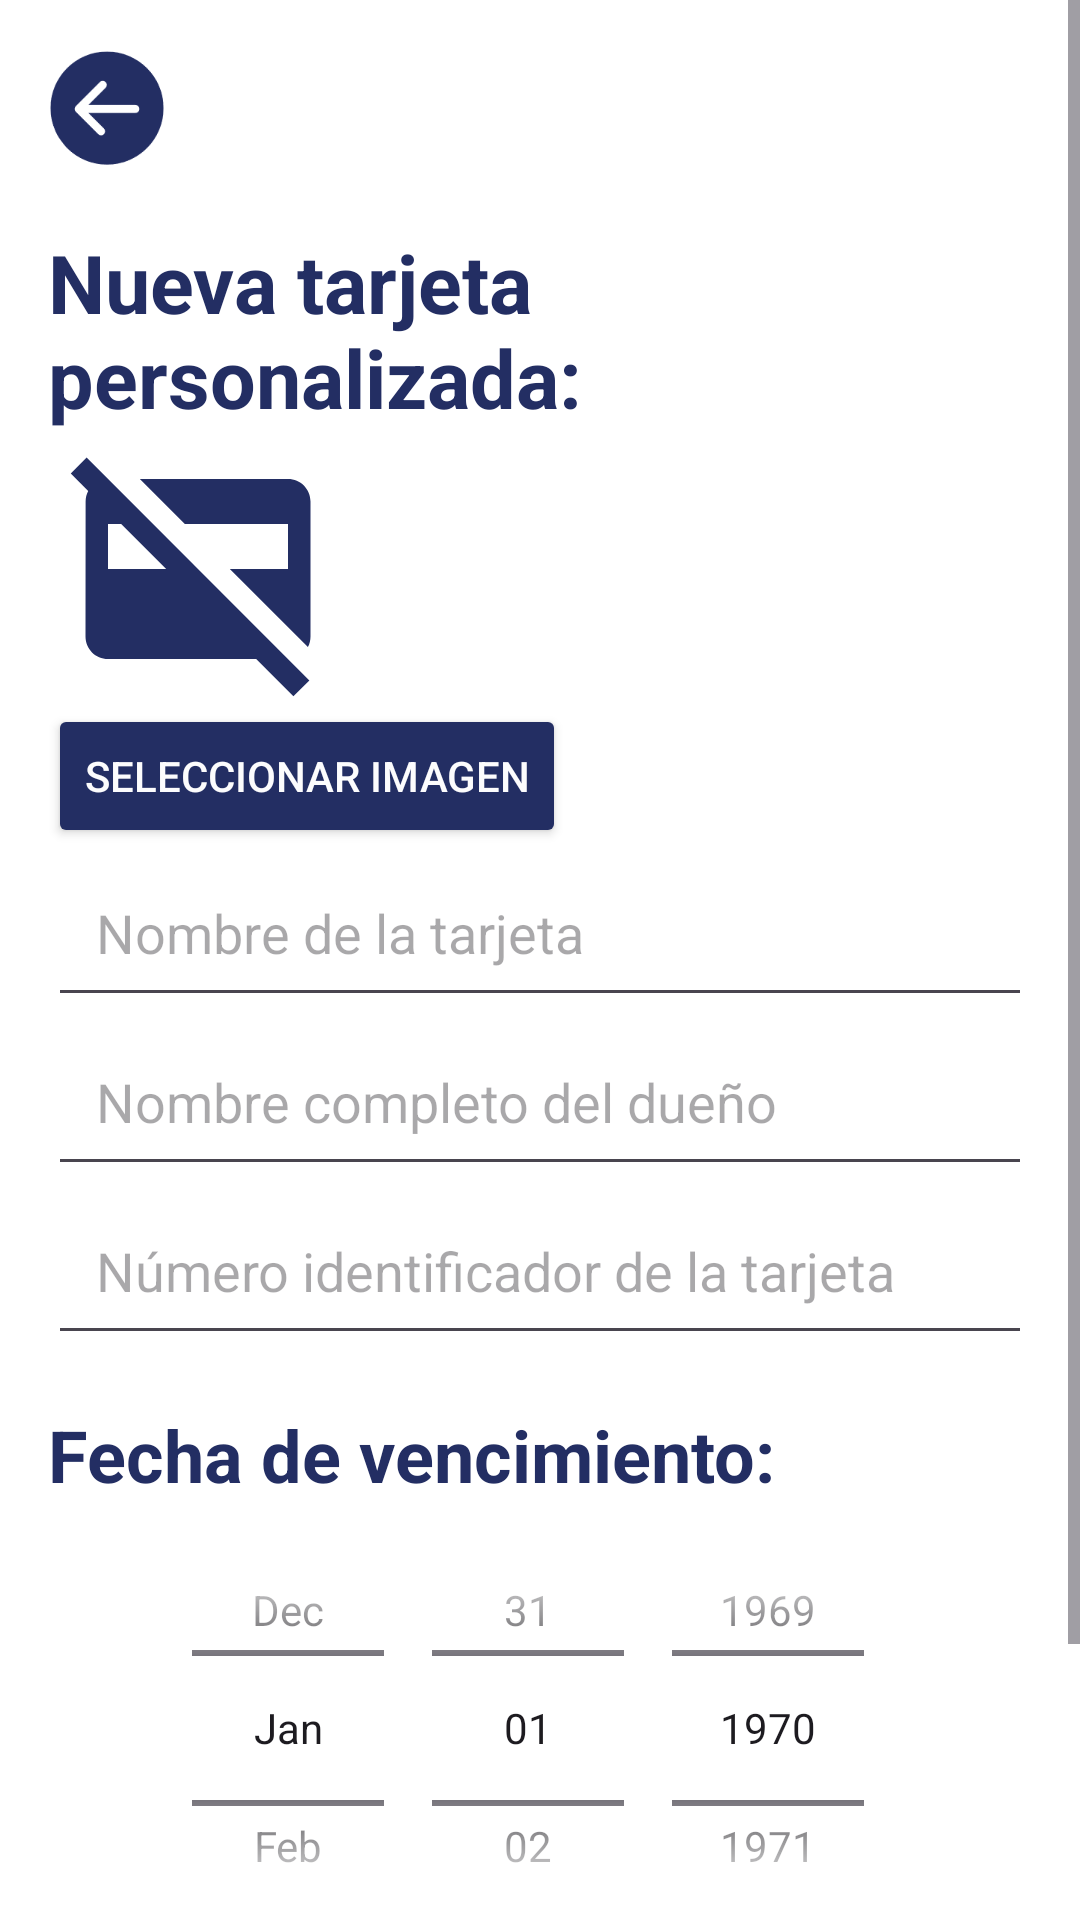

Where to tap for icons on this 1080px×1920px app screen, as [x,y]:
credit card off: [191,576]
goback: [107,108]
